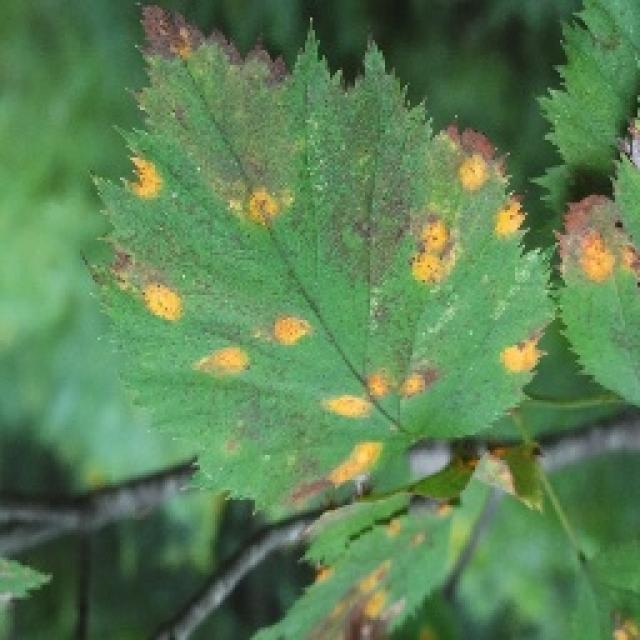Gymnosporangium_Rusts: (97, 39, 640, 632)
